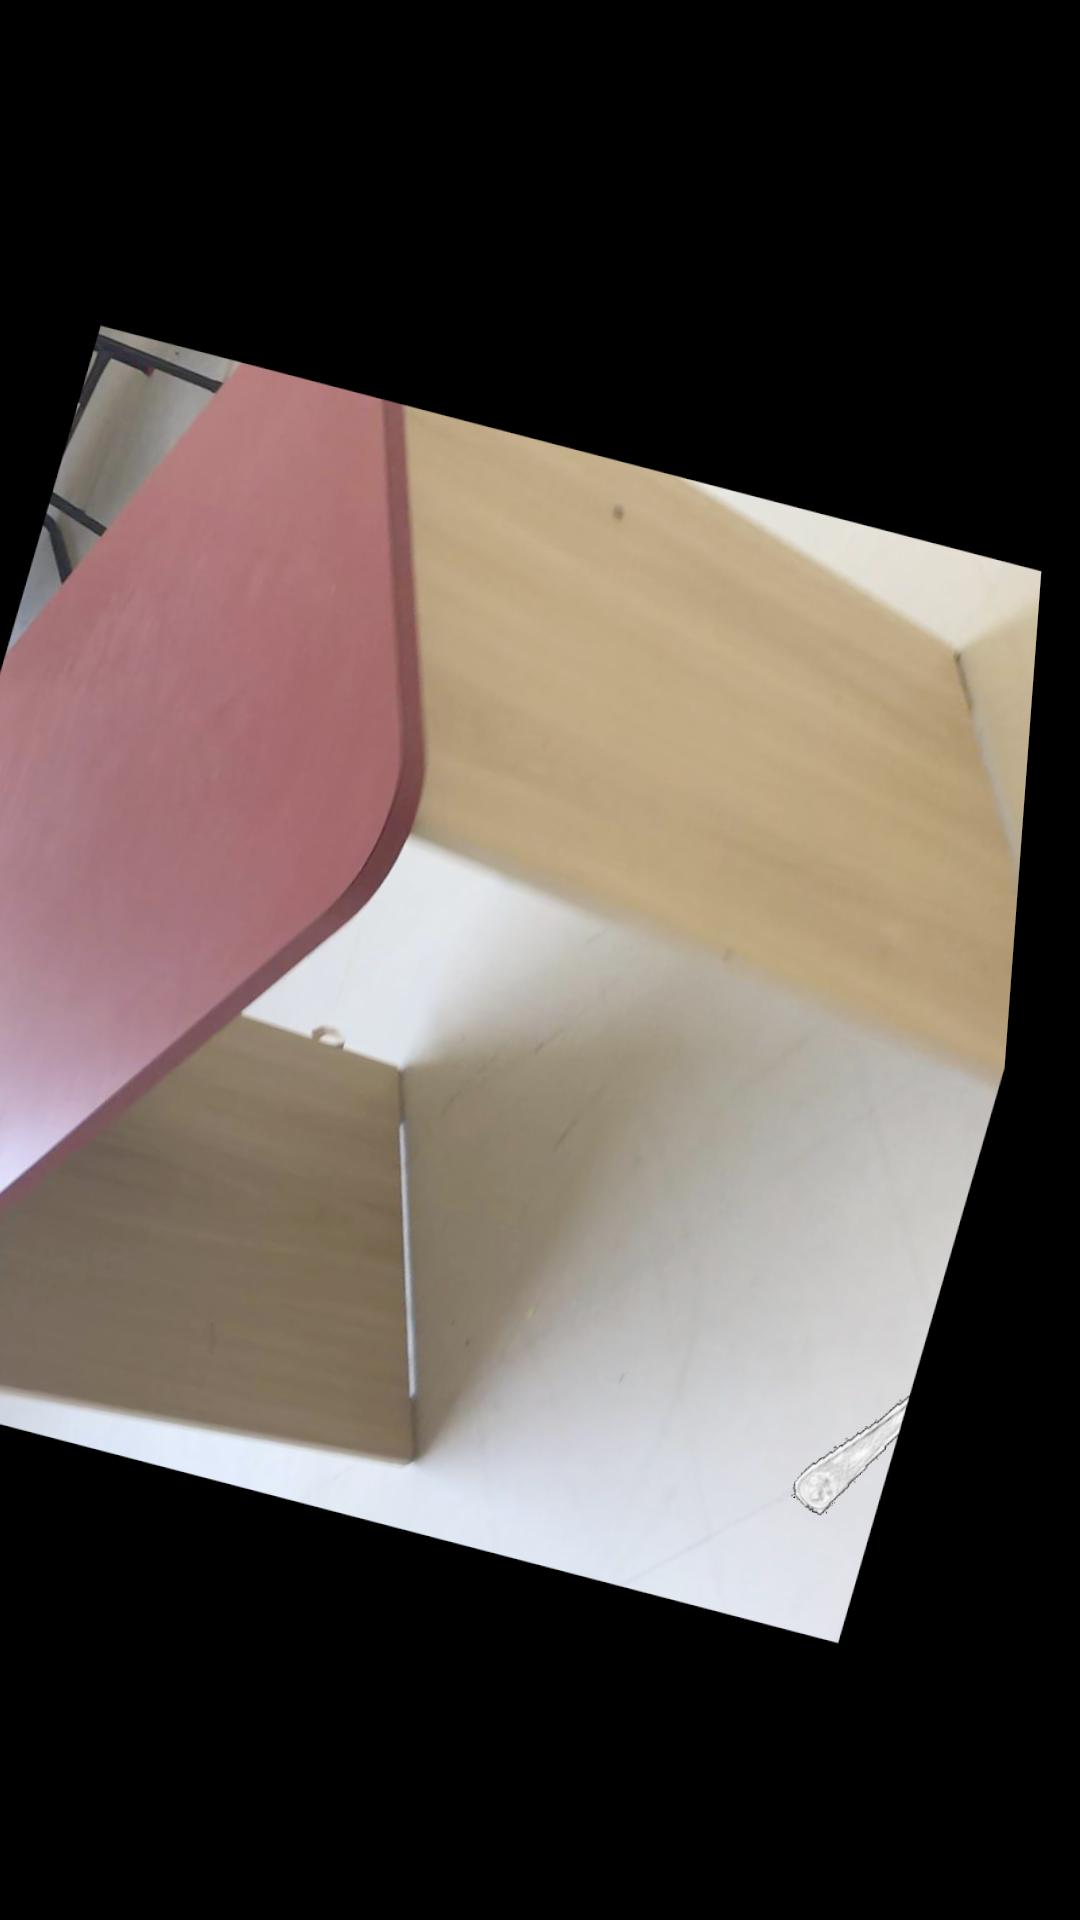spoon: (815, 1381, 931, 1503)
